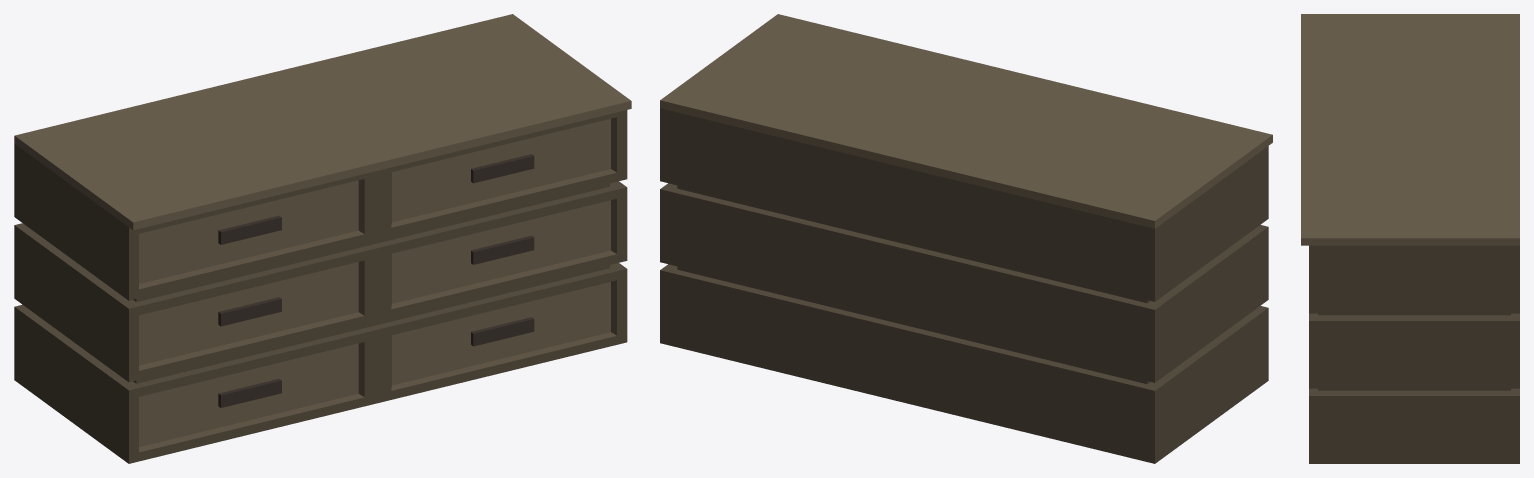
Rendered from Drawer 5.glb.
The picture shows the model from 3 angles, left to right: view 1: azimuth 30°, elevation 25°; view 2: azimuth 150°, elevation 25°; view 3: azimuth 270°, elevation 25°; orthographic projection. The views are drawn at different scales.
Parts seen in each view (by area): view 1: Drawer_5_Cube.097; view 2: Drawer_5_Cube.097; view 3: Drawer_5_Cube.097.
Boxes of the visible parts, x1,y1,x2,y2 form: Drawer_5_Cube.097: (14, 14, 631, 463); Drawer_5_Cube.097: (660, 14, 1272, 463); Drawer_5_Cube.097: (1301, 14, 1519, 463).
Size of the model in its own units: 2.79 by 1.33 by 1.15.
